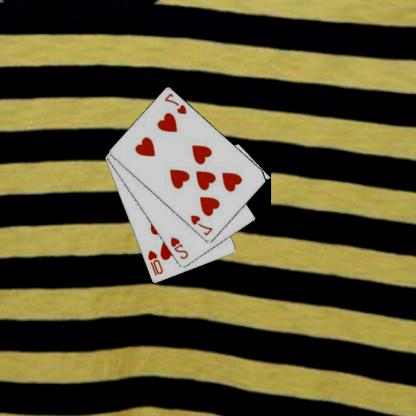10H: (147, 248, 166, 277)
2H: (169, 235, 191, 260)
7H: (164, 90, 190, 116), (190, 212, 216, 237)
